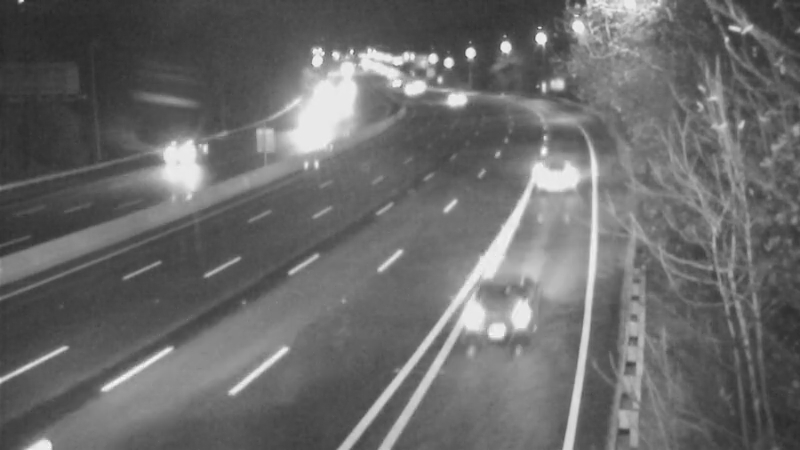vehicle: (455, 265, 565, 375), (123, 95, 233, 205), (518, 139, 598, 219), (429, 72, 479, 122), (269, 121, 319, 171)
